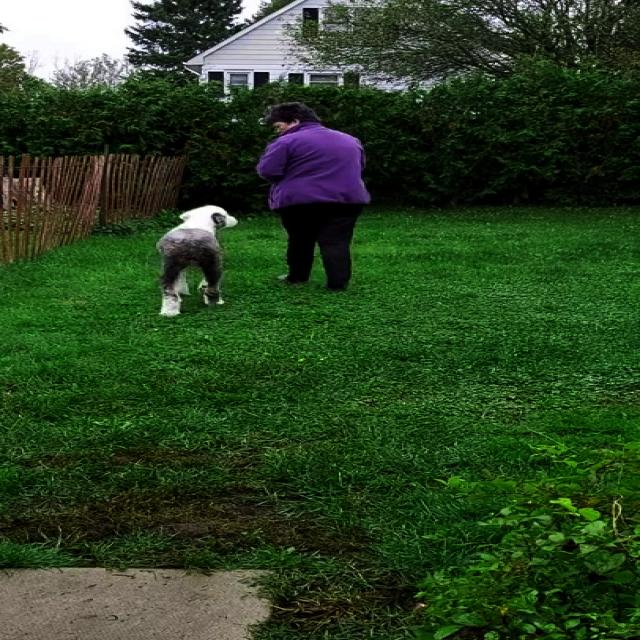Unleashed_Dog: (156, 190, 330, 319)
